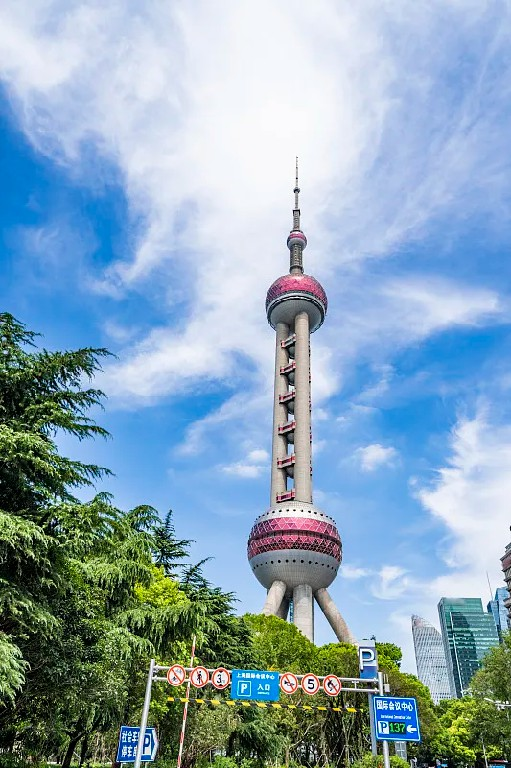Oriental: (247, 158, 356, 645)
